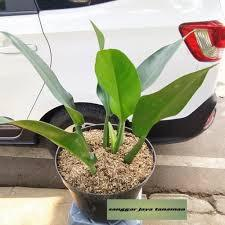ylang-ylang: (53, 24, 211, 201)
